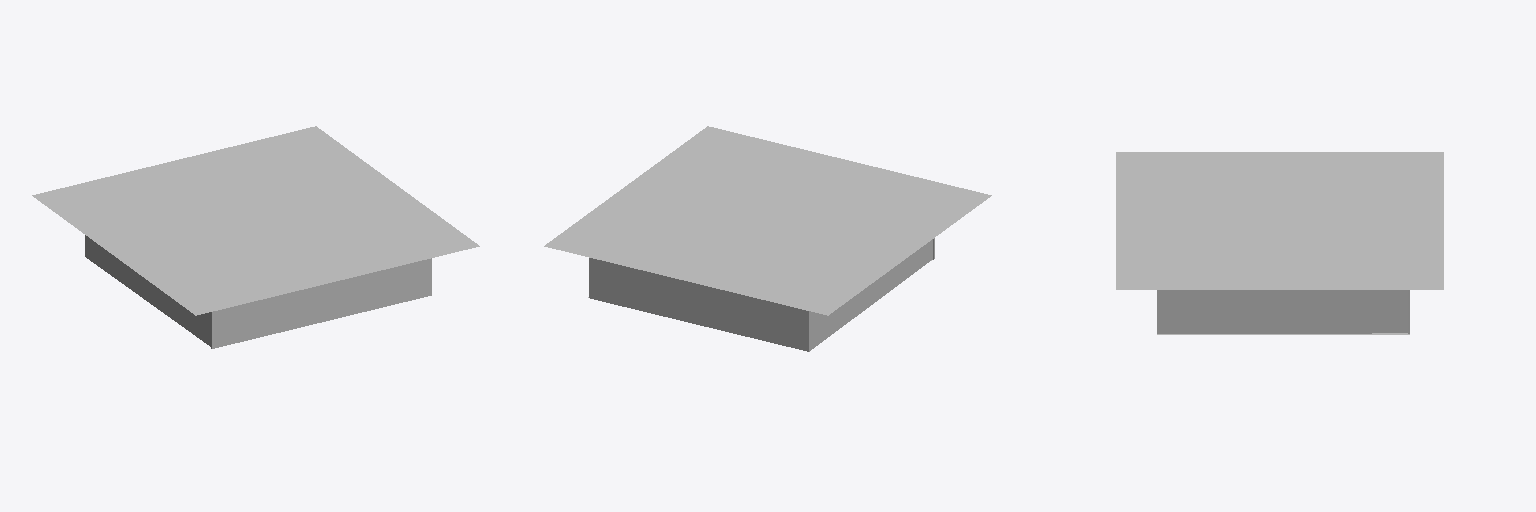
The model's file is hall2.obj.
The picture shows the model from 3 angles: view 1: azimuth 30°, elevation 25°; view 2: azimuth 150°, elevation 25°; view 3: azimuth 270°, elevation 25°; orthographic projection.
Parts seen in each view (by area): view 1: Plane.001_Plane.002, Cube.001, Cube.004; view 2: Plane.001_Plane.002, Cube.002, Cube.004; view 3: Plane.001_Plane.002, Cube.003.
Part boxes in pixels (x1,y1,x2,y2): Plane.001_Plane.002: (32,126,479,315); Cube.001: (211,238,431,348); Cube.004: (85,199,213,348); Plane.001_Plane.002: (544,126,991,315); Cube.002: (589,242,807,351); Cube.004: (808,211,932,351); Plane.001_Plane.002: (1116,152,1443,289); Cube.003: (1157,275,1409,333).
Size of the model in its own units: 259 by 61.06 by 259.